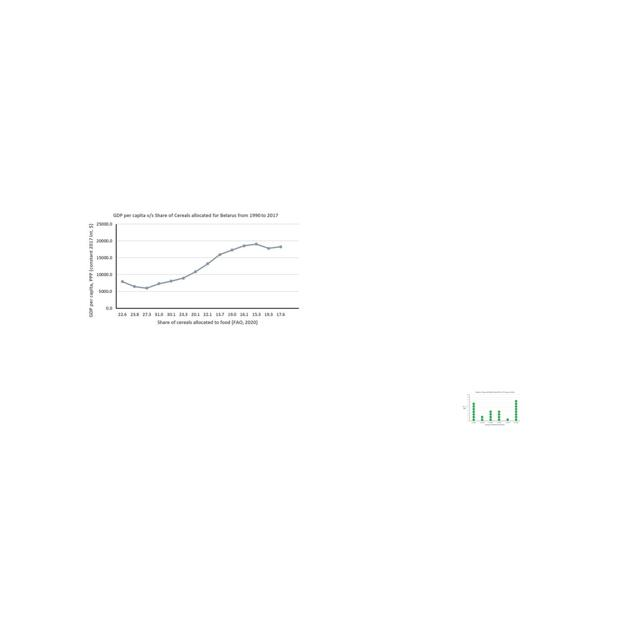Graph: (83, 207, 304, 332), (461, 390, 521, 427)
